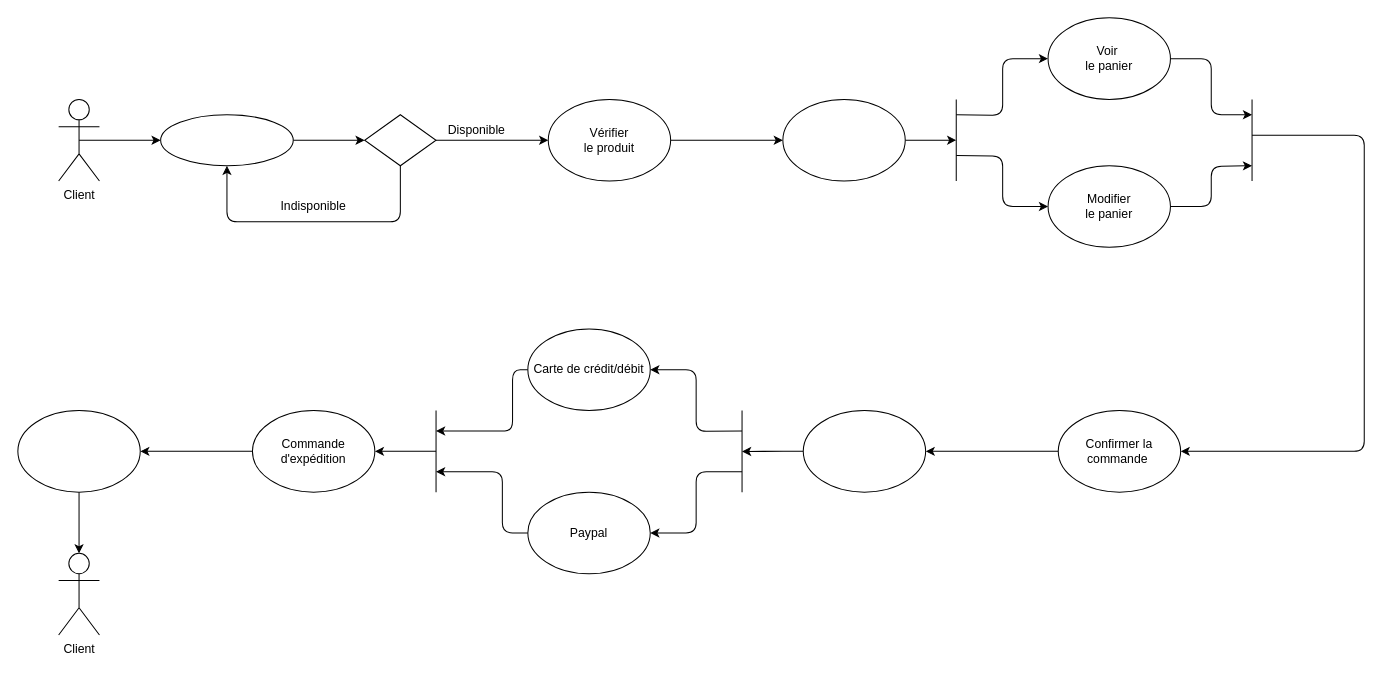
Image size: 1390x674. Some labels were removed from this diagram. Here are the shapes that lost their labels. From the top down, the centre of each, then its label:
(x=226, y=140): Rechercher un produit
(x=843, y=139): Ajoutet au panier
(x=78, y=451): Receoir la commande
(x=864, y=451): Mode de paiement
